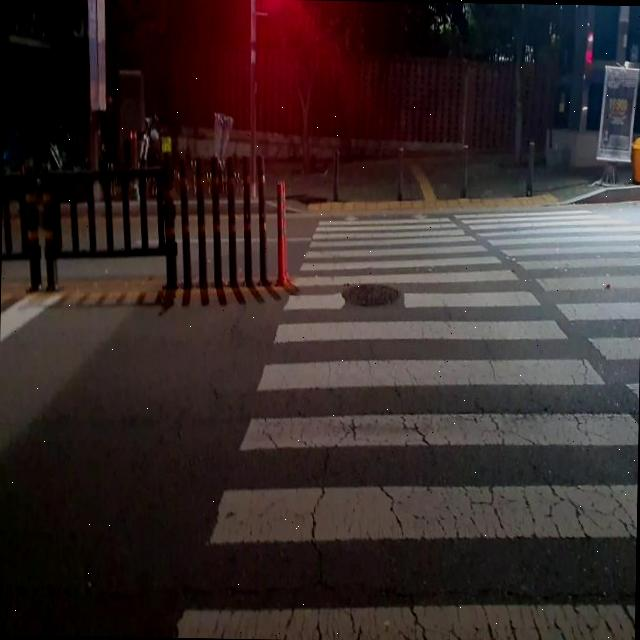crosswalk: (177, 205, 640, 640)
